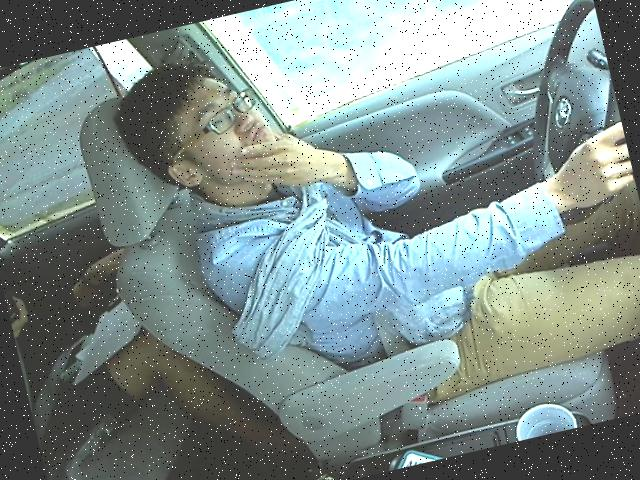c6 - Hair and Makeup: (95, 0, 639, 367)
